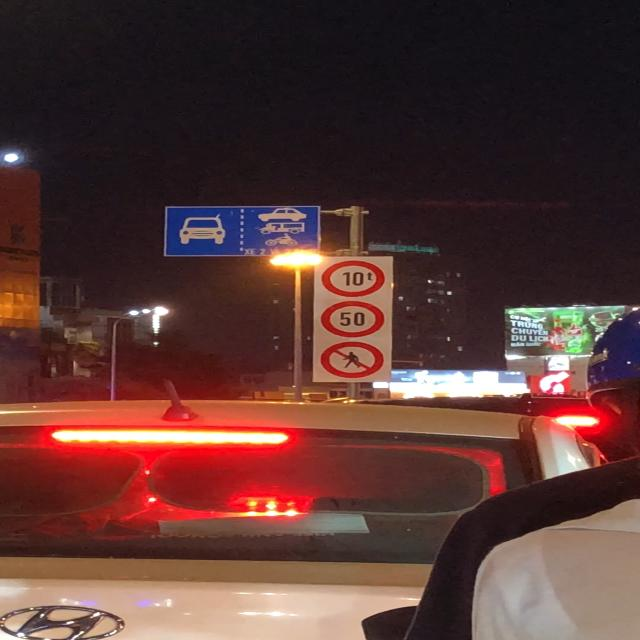Bien bao cam nguoi di bo: (320, 341, 386, 380)
Bien bao toc do toi da cho phep: (318, 298, 386, 338)
